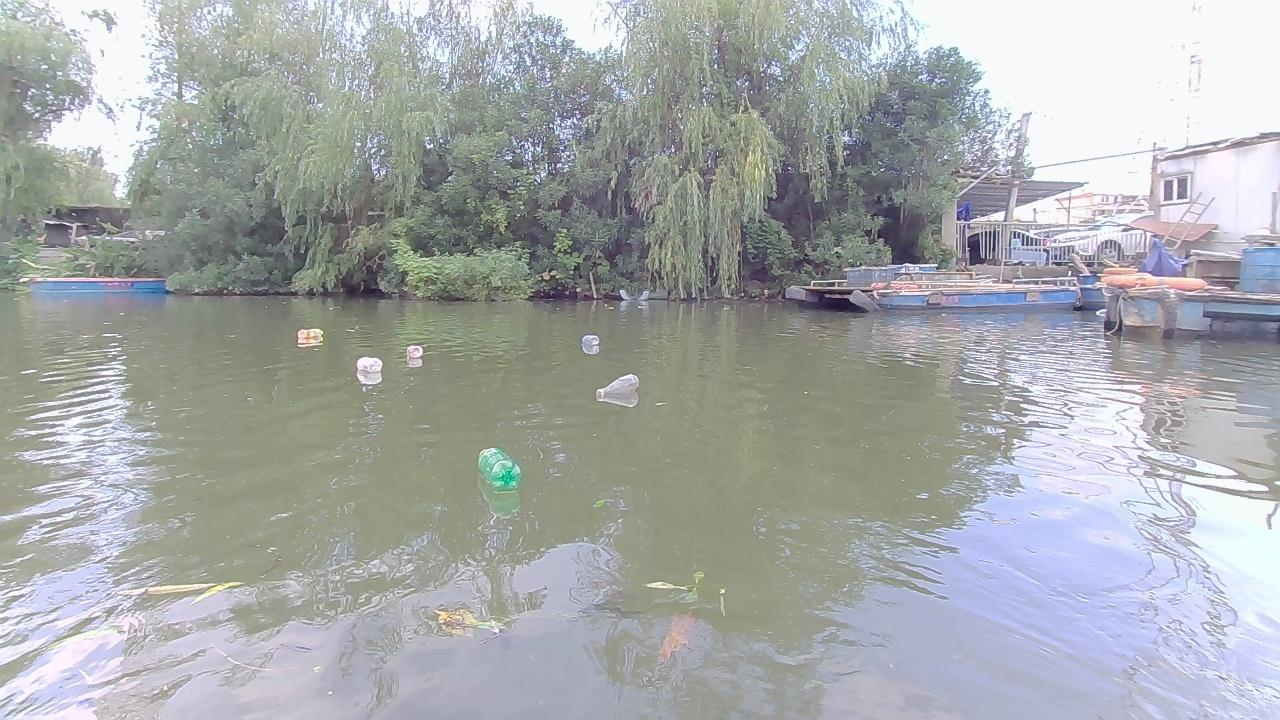bottle: (476, 442, 524, 487), (593, 364, 639, 399), (353, 357, 383, 379), (576, 332, 601, 352), (405, 344, 425, 363), (295, 327, 321, 337)
